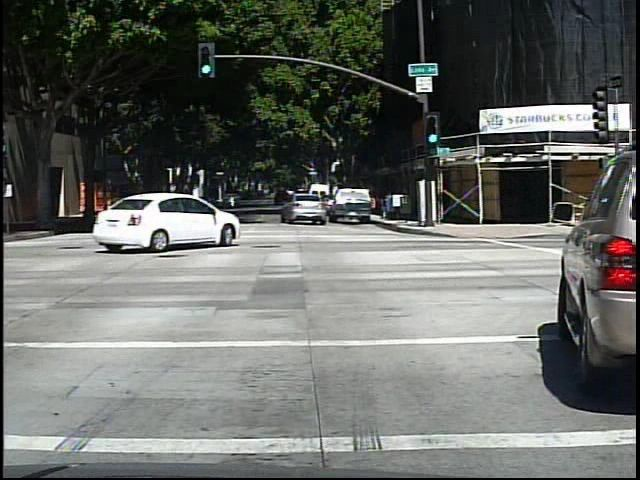person: (106, 186, 122, 221)
